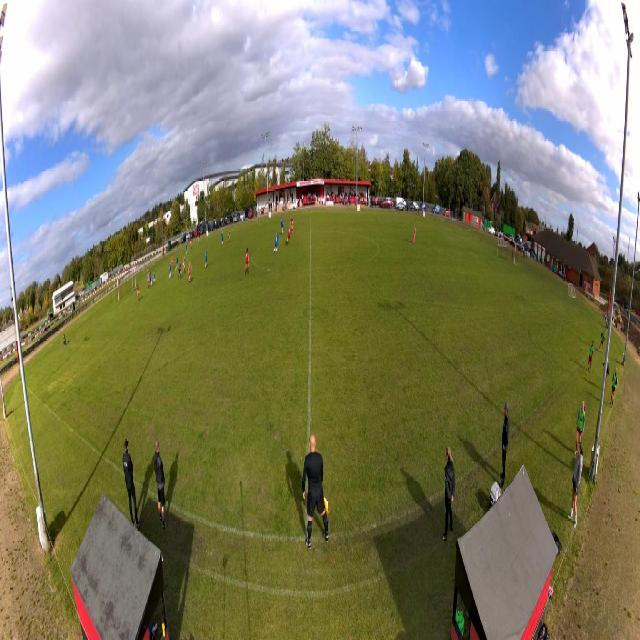ball: (227, 209, 228, 213)
player: (285, 225, 294, 247), (273, 232, 279, 256), (246, 246, 250, 275), (188, 262, 192, 286), (290, 215, 294, 234), (178, 261, 182, 279), (136, 285, 140, 303), (281, 219, 285, 236), (205, 248, 208, 270), (413, 225, 416, 245), (183, 256, 186, 275), (176, 255, 179, 273), (147, 273, 150, 291), (221, 229, 224, 246), (169, 262, 172, 279), (131, 276, 134, 293), (150, 271, 153, 288), (153, 267, 156, 283), (228, 230, 231, 244), (186, 242, 188, 257), (172, 255, 174, 270), (190, 238, 192, 249), (149, 272, 150, 283)
